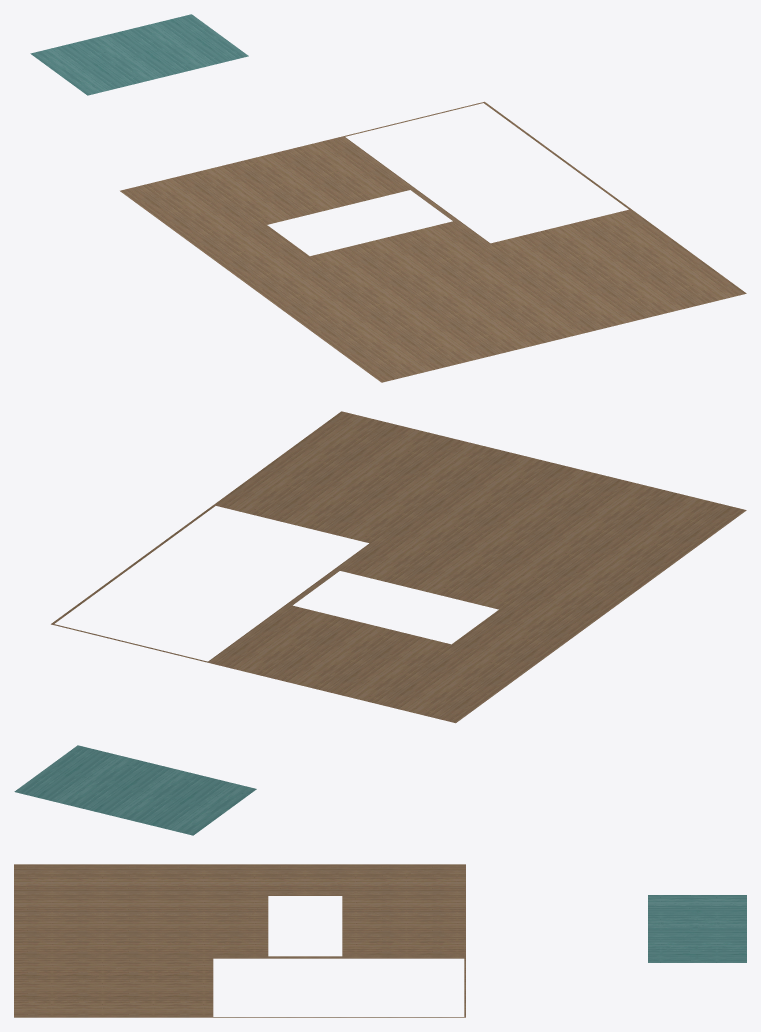
Rendered from FLOOR2.glb.
The picture shows the model from 3 angles, top to bottom: view 1: azimuth 30°, elevation 25°; view 2: azimuth 150°, elevation 25°; view 3: azimuth 270°, elevation 25°; orthographic projection. The views are drawn at different scales.
Parts seen in each view (by area): view 1: FLOOR2; view 2: FLOOR2; view 3: FLOOR2.
Boxes of the visible parts, <box> form: FLOOR2: <box>30,14,746,382</box>; FLOOR2: <box>14,411,746,835</box>; FLOOR2: <box>14,864,746,1017</box>.
Size of the model in its own units: 2399 by 0.0542 by 4837.
Materials: 2 (2 with a texture image).
